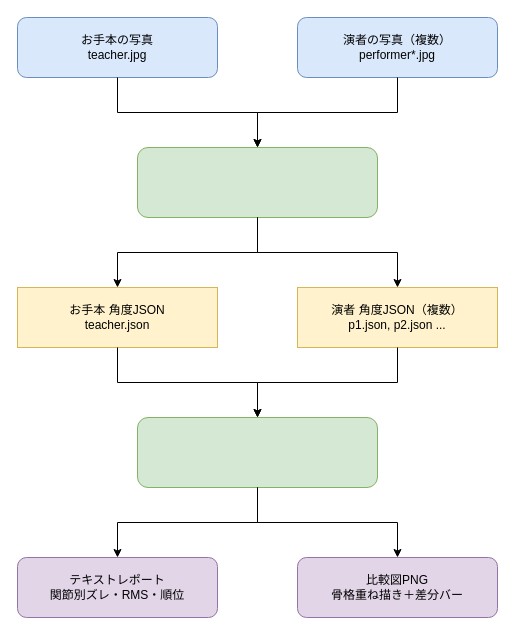
Some shapes in this 515 by 635 pixel diagram are drawn without their labels. Each missing label, with the centre of its shape:
"pose_angles.py （MediaPipe Pose Landmarker） 画像→関節角度" belongs at point 257,182.
"pose_compare.py お手本基準で差分を算出" belongs at point 257,452.
